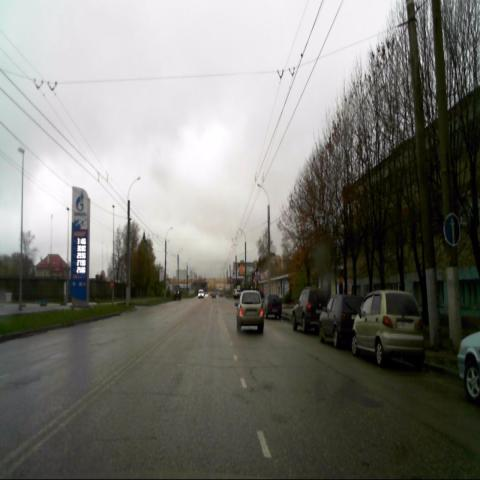4_1_1: (444, 214, 460, 246)
